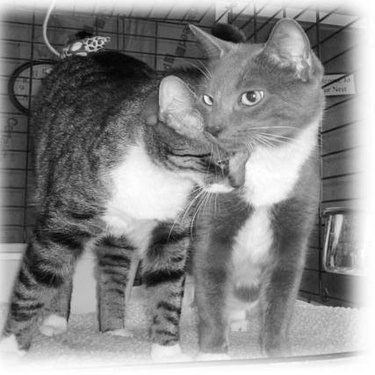cat: (1, 52, 257, 364), (186, 21, 324, 361)
